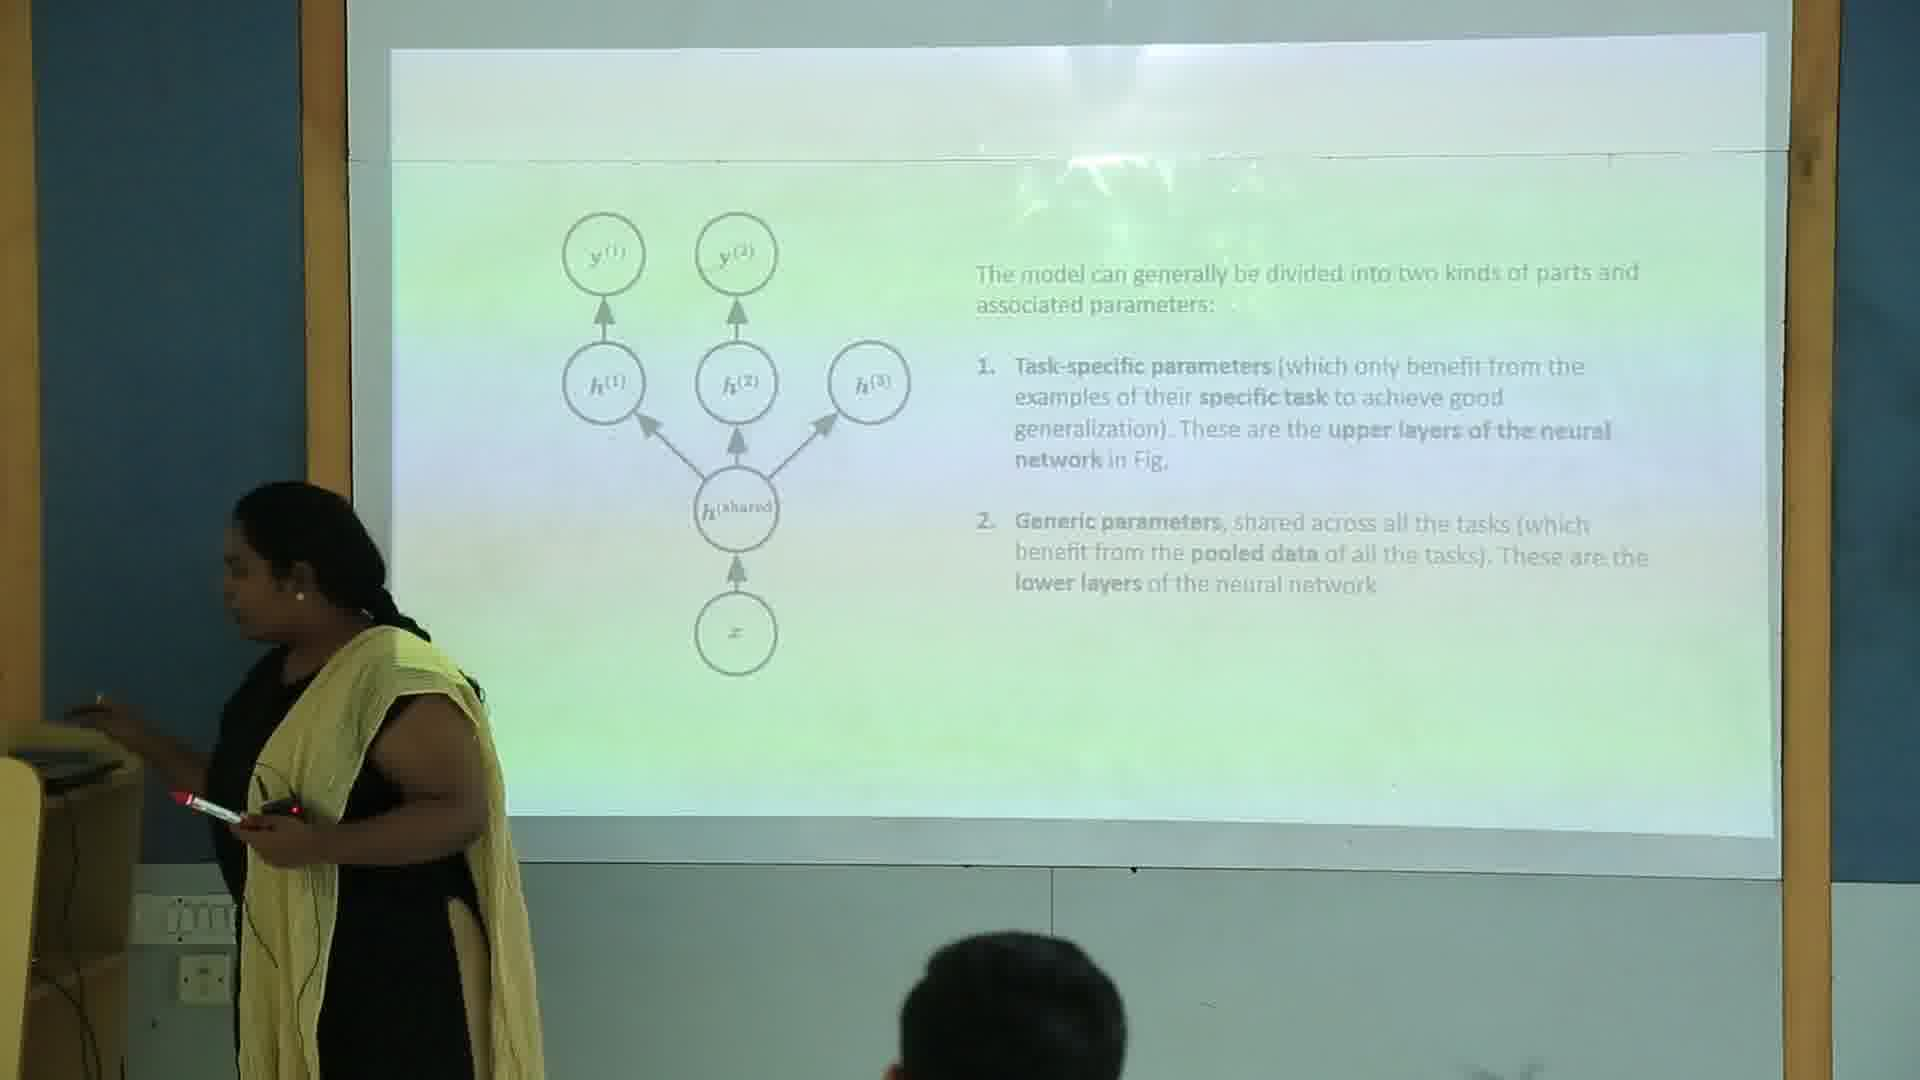fig: (547, 206, 926, 688)
